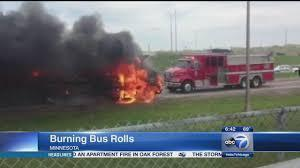fire: (111, 57, 164, 107)
